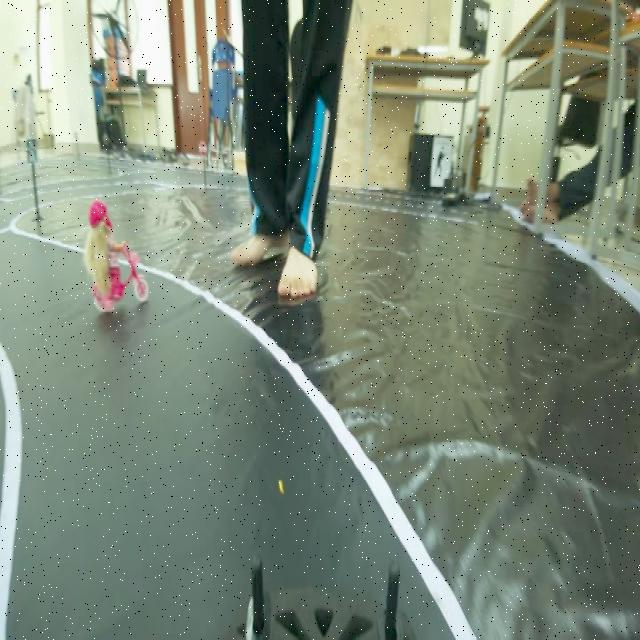pedestrian: (77, 198, 167, 314)
